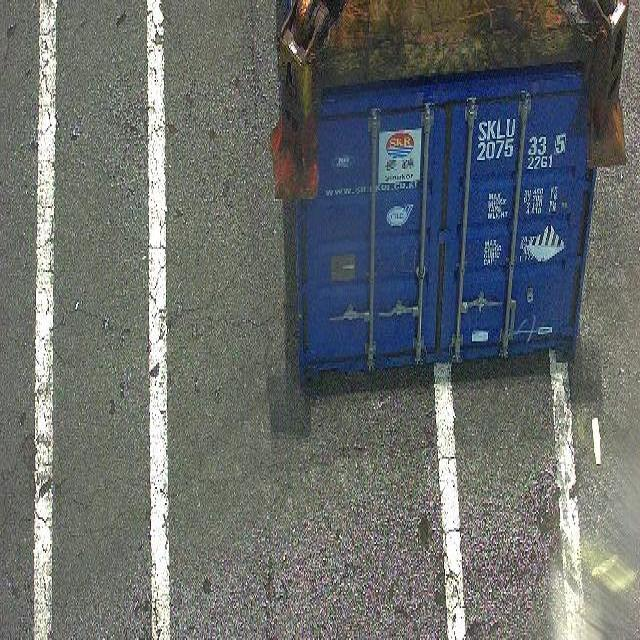ISO: (526, 155, 554, 170)
container_number: (476, 118, 568, 153)
